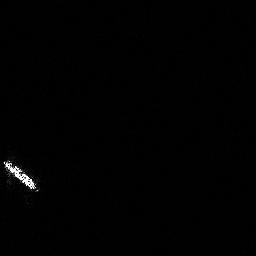ship: (1, 157, 42, 193)
